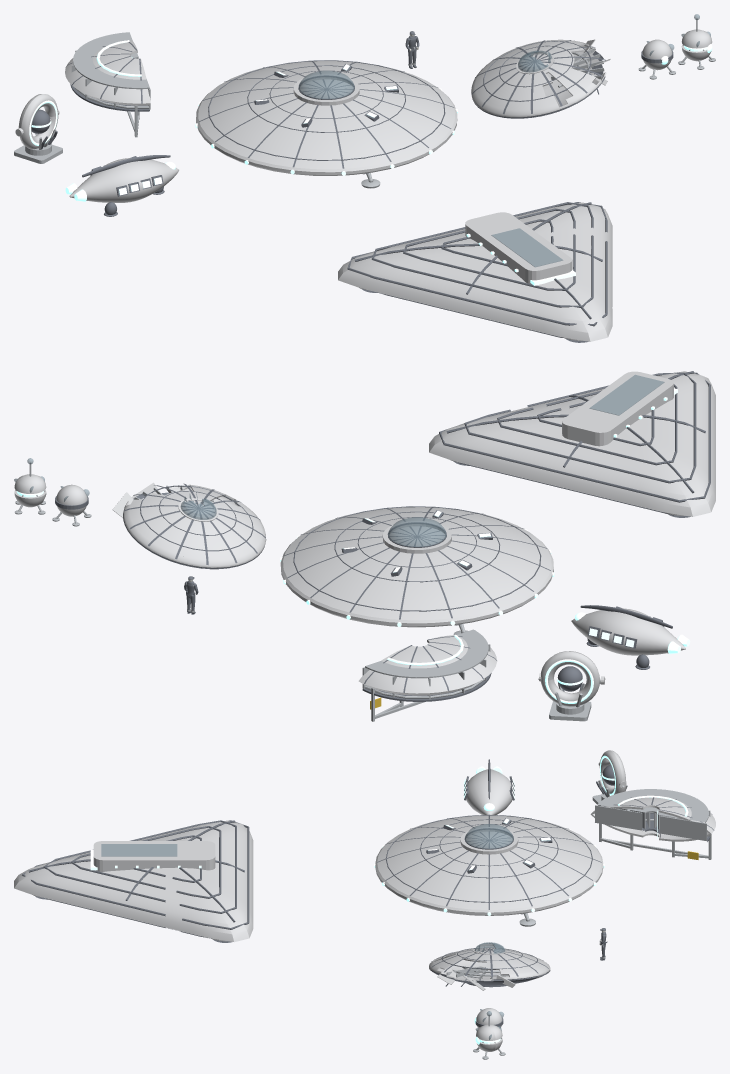
Rendered from ufo-crash-site-and-recovery-facility-craft-lineup-547e6675__17379.glb.
3 views of the same model, one above another, from view 1: azimuth 30°, elevation 25°; view 2: azimuth 150°, elevation 25°; view 3: azimuth 270°, elevation 25° (orthographic). The views are drawn at different scales.
Parts seen in each view (by area): view 1: 000-saucer-craft-intact/1, 002-triangular-craft/0, 001-scout-disc-damaged/0, 002-triangular-craft/1, 000-saucer-craft-intact/0, 007-cutaway-hull-section/0, 003-bio-organic-pod-craft/0, 001-scout-disc-damaged/1, 007-cutaway-hull-section/2, 002-triangular-craft/4, 000-saucer-craft-intact/2, 006-engine-core-assembly/1 (+5 smaller); view 2: 000-saucer-craft-intact/1, 002-triangular-craft/0, 001-scout-disc-damaged/0, 002-triangular-craft/1, 000-saucer-craft-intact/0, 007-cutaway-hull-section/0, 003-bio-organic-pod-craft/0, 007-cutaway-hull-section/2, 001-scout-disc-damaged/1, 006-engine-core-assembly/1, 002-triangular-craft/4, 000-saucer-craft-intact/2 (+7 smaller); view 3: 000-saucer-craft-intact/1, 002-triangular-craft/0, 007-cutaway-hull-section/2, 002-triangular-craft/1, 000-saucer-craft-intact/0, 001-scout-disc-damaged/0, 007-cutaway-hull-section/0, 003-bio-organic-pod-craft/0, 001-scout-disc-damaged/1, 002-triangular-craft/4, 000-saucer-craft-intact/2, 006-engine-core-assembly/1 (+1 smaller).
Boxes of the visible parts, box(x1,y1,x2,y2) form: 000-saucer-craft-intact/1: box(196, 61, 457, 175); 002-triangular-craft/0: box(338, 202, 612, 341); 001-scout-disc-damaged/0: box(471, 39, 610, 117); 002-triangular-craft/1: box(347, 202, 607, 342); 000-saucer-craft-intact/0: box(199, 60, 454, 174); 007-cutaway-hull-section/0: box(65, 40, 150, 105); 003-bio-organic-pod-craft/0: box(69, 158, 179, 202); 001-scout-disc-damaged/1: box(472, 40, 605, 118); 007-cutaway-hull-section/2: box(71, 32, 150, 137); 002-triangular-craft/4: box(491, 228, 562, 267); 000-saucer-craft-intact/2: box(299, 70, 354, 99); 006-engine-core-assembly/1: box(15, 94, 59, 149); 000-saucer-craft-intact/1: box(280, 507, 553, 627); 002-triangular-craft/0: box(429, 371, 715, 516); 001-scout-disc-damaged/0: box(112, 482, 266, 567); 002-triangular-craft/1: box(439, 371, 710, 517); 000-saucer-craft-intact/0: box(284, 506, 550, 625); 007-cutaway-hull-section/0: box(358, 635, 496, 695); 003-bio-organic-pod-craft/0: box(571, 608, 685, 655); 007-cutaway-hull-section/2: box(362, 629, 490, 721); 001-scout-disc-damaged/1: box(123, 483, 265, 569); 006-engine-core-assembly/1: box(539, 651, 605, 706); 002-triangular-craft/4: box(589, 375, 664, 415); 000-saucer-craft-intact/2: box(388, 517, 446, 546); 000-saucer-craft-intact/1: box(375, 815, 603, 915); 002-triangular-craft/0: box(14, 820, 253, 941); 007-cutaway-hull-section/2: box(595, 789, 711, 859); 002-triangular-craft/1: box(22, 820, 249, 942); 000-saucer-craft-intact/0: box(377, 814, 601, 914); 001-scout-disc-damaged/0: box(429, 947, 550, 990); 007-cutaway-hull-section/0: box(590, 797, 715, 841); 003-bio-organic-pod-craft/0: box(465, 769, 512, 814); 001-scout-disc-damaged/1: box(429, 948, 550, 987); 002-triangular-craft/4: box(101, 844, 177, 856); 000-saucer-craft-intact/2: box(465, 824, 513, 848); 006-engine-core-assembly/1: box(598, 750, 626, 794).
Bounding box in the file's own units: 34.06 × 3.88 × 36.9.
